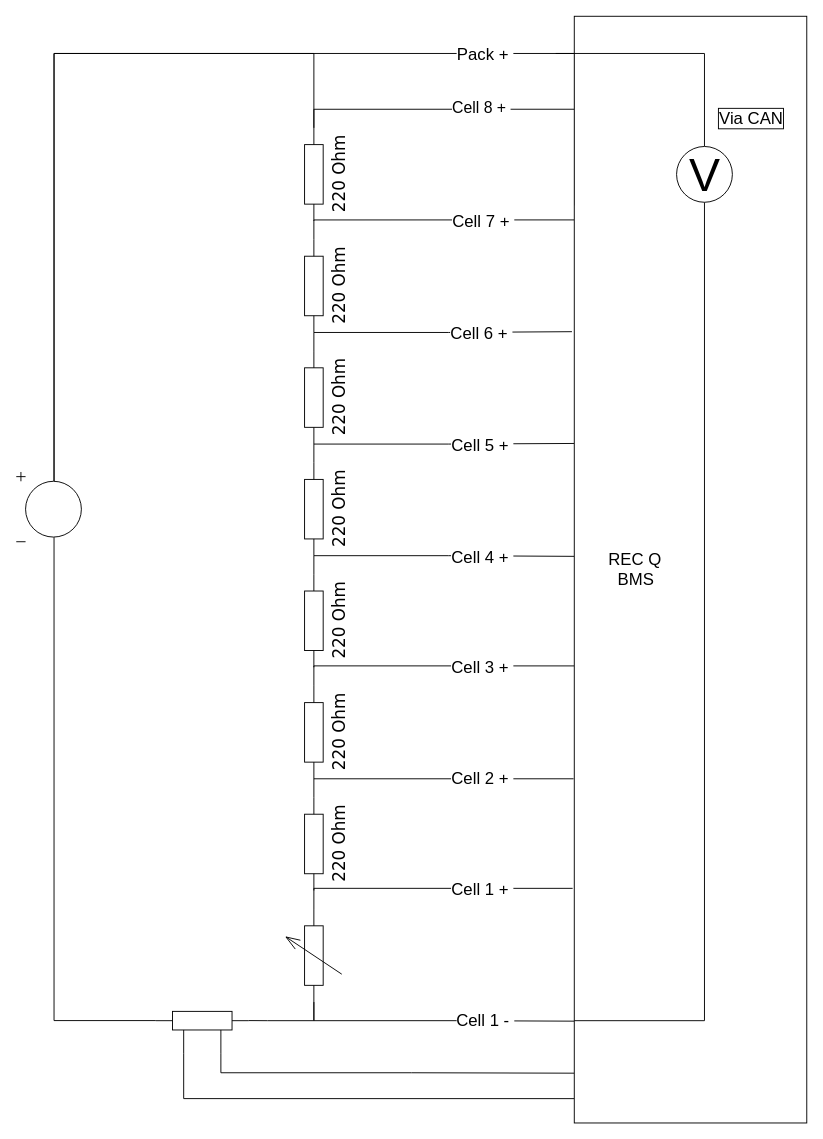
Some shapes in this 823 by 1139 pixel diagram are drawn without their labels. Here are the shapes that lost their labels. From the top down, the centre of each, then its label:
At (48,506): "24-29V set ~26.00V".
At (313,955): "0-500 Ohm set ~220 Ohm".
At (202,1031): "Shunt".
